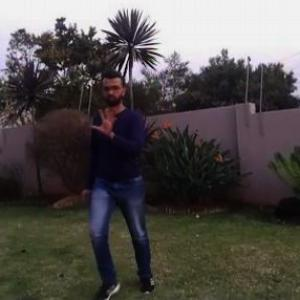follow_hand: (89, 103, 121, 139)
